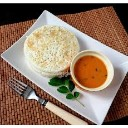dosa: (25, 25, 78, 72)
